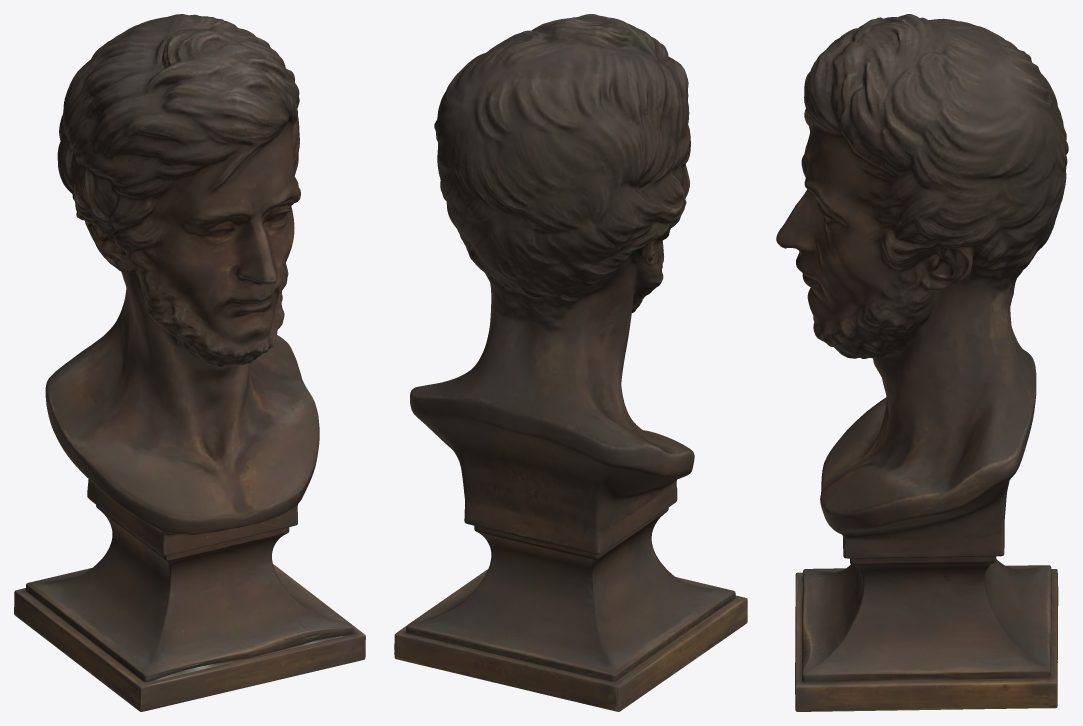
The model's file is preview.glb.
The picture shows the model from 3 angles, left to right: view 1: azimuth 30°, elevation 25°; view 2: azimuth 150°, elevation 25°; view 3: azimuth 270°, elevation 25°; orthographic projection. The views are drawn at different scales.
Visible parts, largest first — view 1: Object_3; view 2: Object_3; view 3: Object_3.
Part boxes in pixels (x1,y1,x2,y2): Object_3: (14, 14, 365, 711); Object_3: (394, 14, 747, 711); Object_3: (776, 14, 1068, 711).
Size of the model in its own units: 0.8051 by 1.96 by 0.8255.
1 material, 1 textured.
